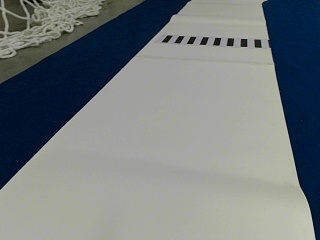crosswalk: (161, 34, 265, 48)
